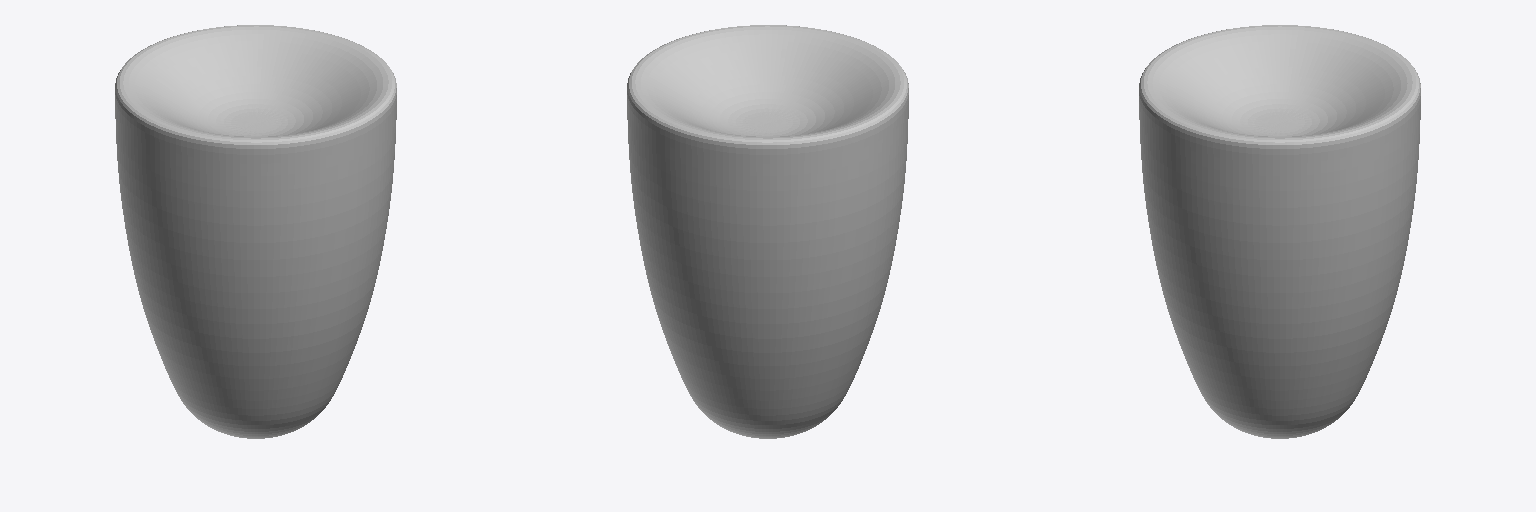
File: Body.obj
The picture shows the model from 3 angles: view 1: azimuth 30°, elevation 25°; view 2: azimuth 150°, elevation 25°; view 3: azimuth 270°, elevation 25°; orthographic projection.
Visible parts, largest first — view 1: Body_Cylinder.002; view 2: Body_Cylinder.002; view 3: Body_Cylinder.002.
Part boxes in pixels (bbox=[...]): Body_Cylinder.002: bbox=[115, 25, 396, 438]; Body_Cylinder.002: bbox=[627, 25, 908, 438]; Body_Cylinder.002: bbox=[1139, 25, 1420, 438].
Size of the model in its own units: 0.699 by 0.947 by 0.699.